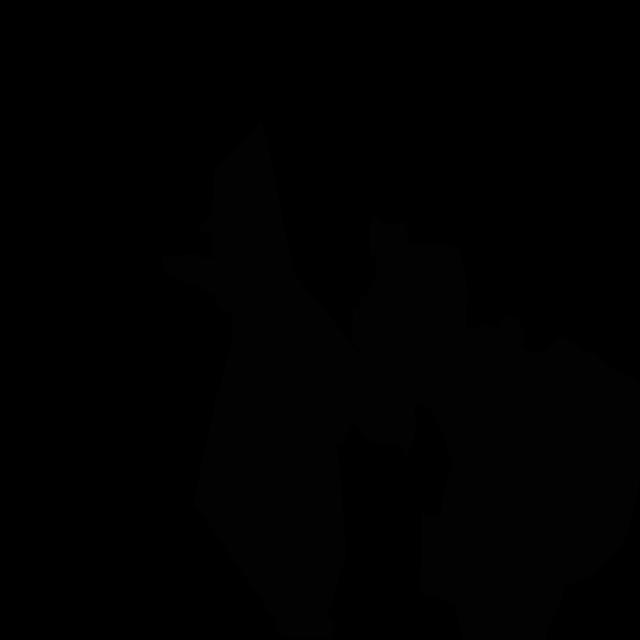cardboard: (162, 122, 418, 639), (351, 215, 640, 640)
